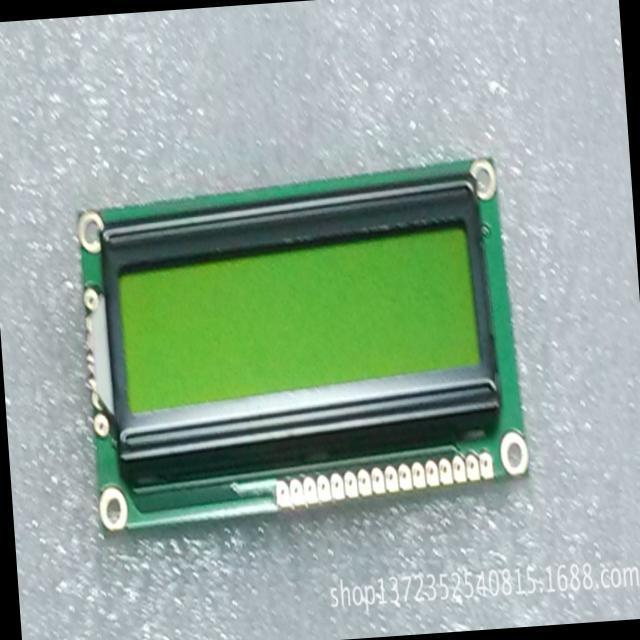lcd: (75, 154, 530, 531)
